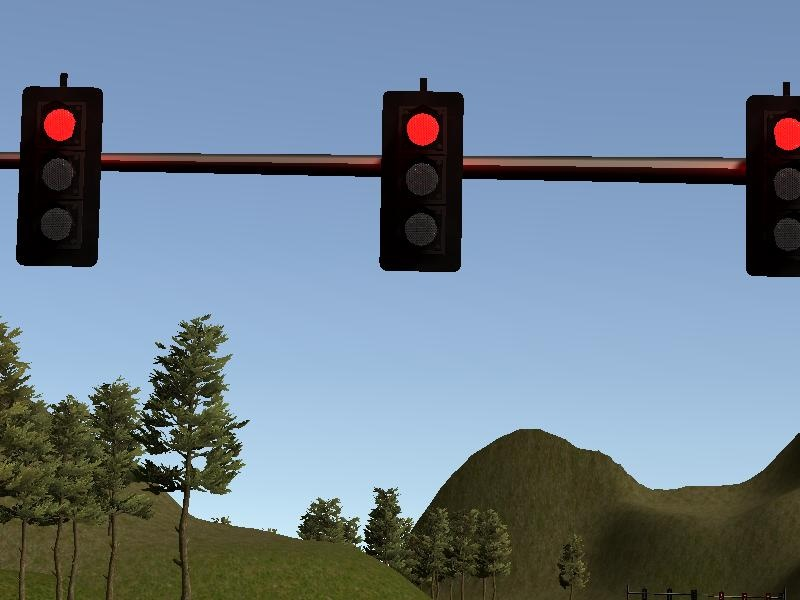red: (373, 88, 469, 273), (11, 82, 105, 267)
